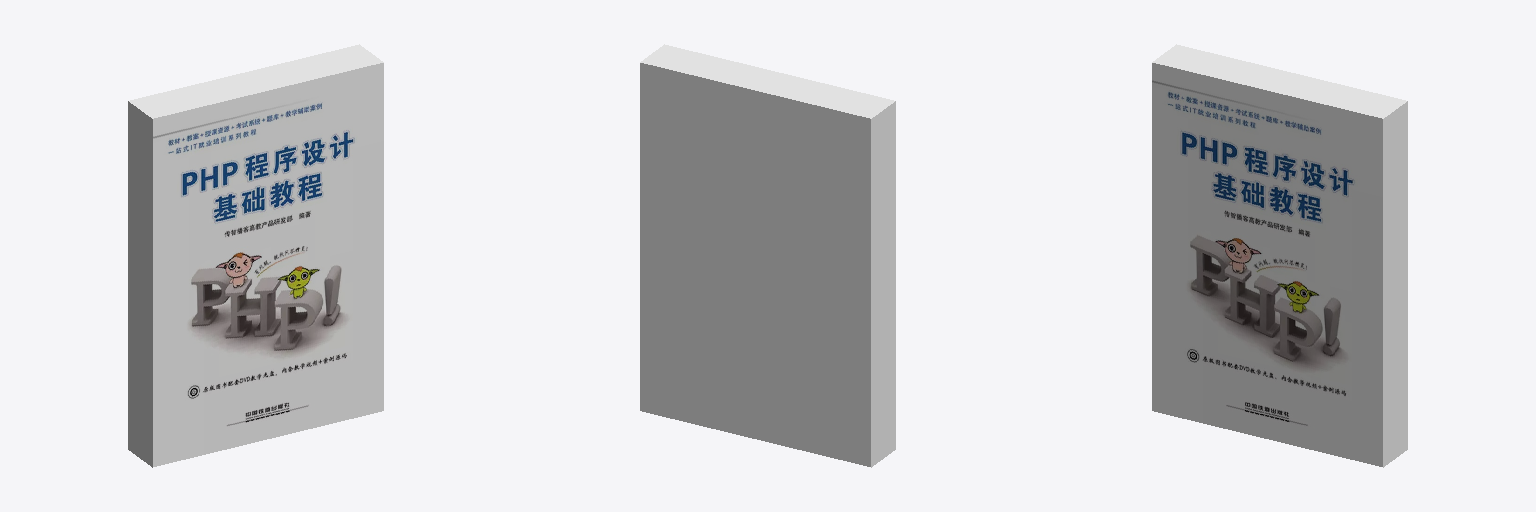
The picture shows the model from 3 angles: view 1: azimuth 30°, elevation 25°; view 2: azimuth 150°, elevation 25°; view 3: azimuth 330°, elevation 25°; orthographic projection.
Parts seen in each view (by area): view 1: 立方体.012; view 2: 立方体.012; view 3: 立方体.012.
Boxes of the visible parts, box(x1,y1,x2,y2) form: 立方体.012: box(128, 44, 383, 467); 立方体.012: box(640, 44, 895, 467); 立方体.012: box(1152, 44, 1407, 467).
Size of the model in its own units: 0.4312 by 0.6205 by 0.0792.
2 materials, 1 textured.